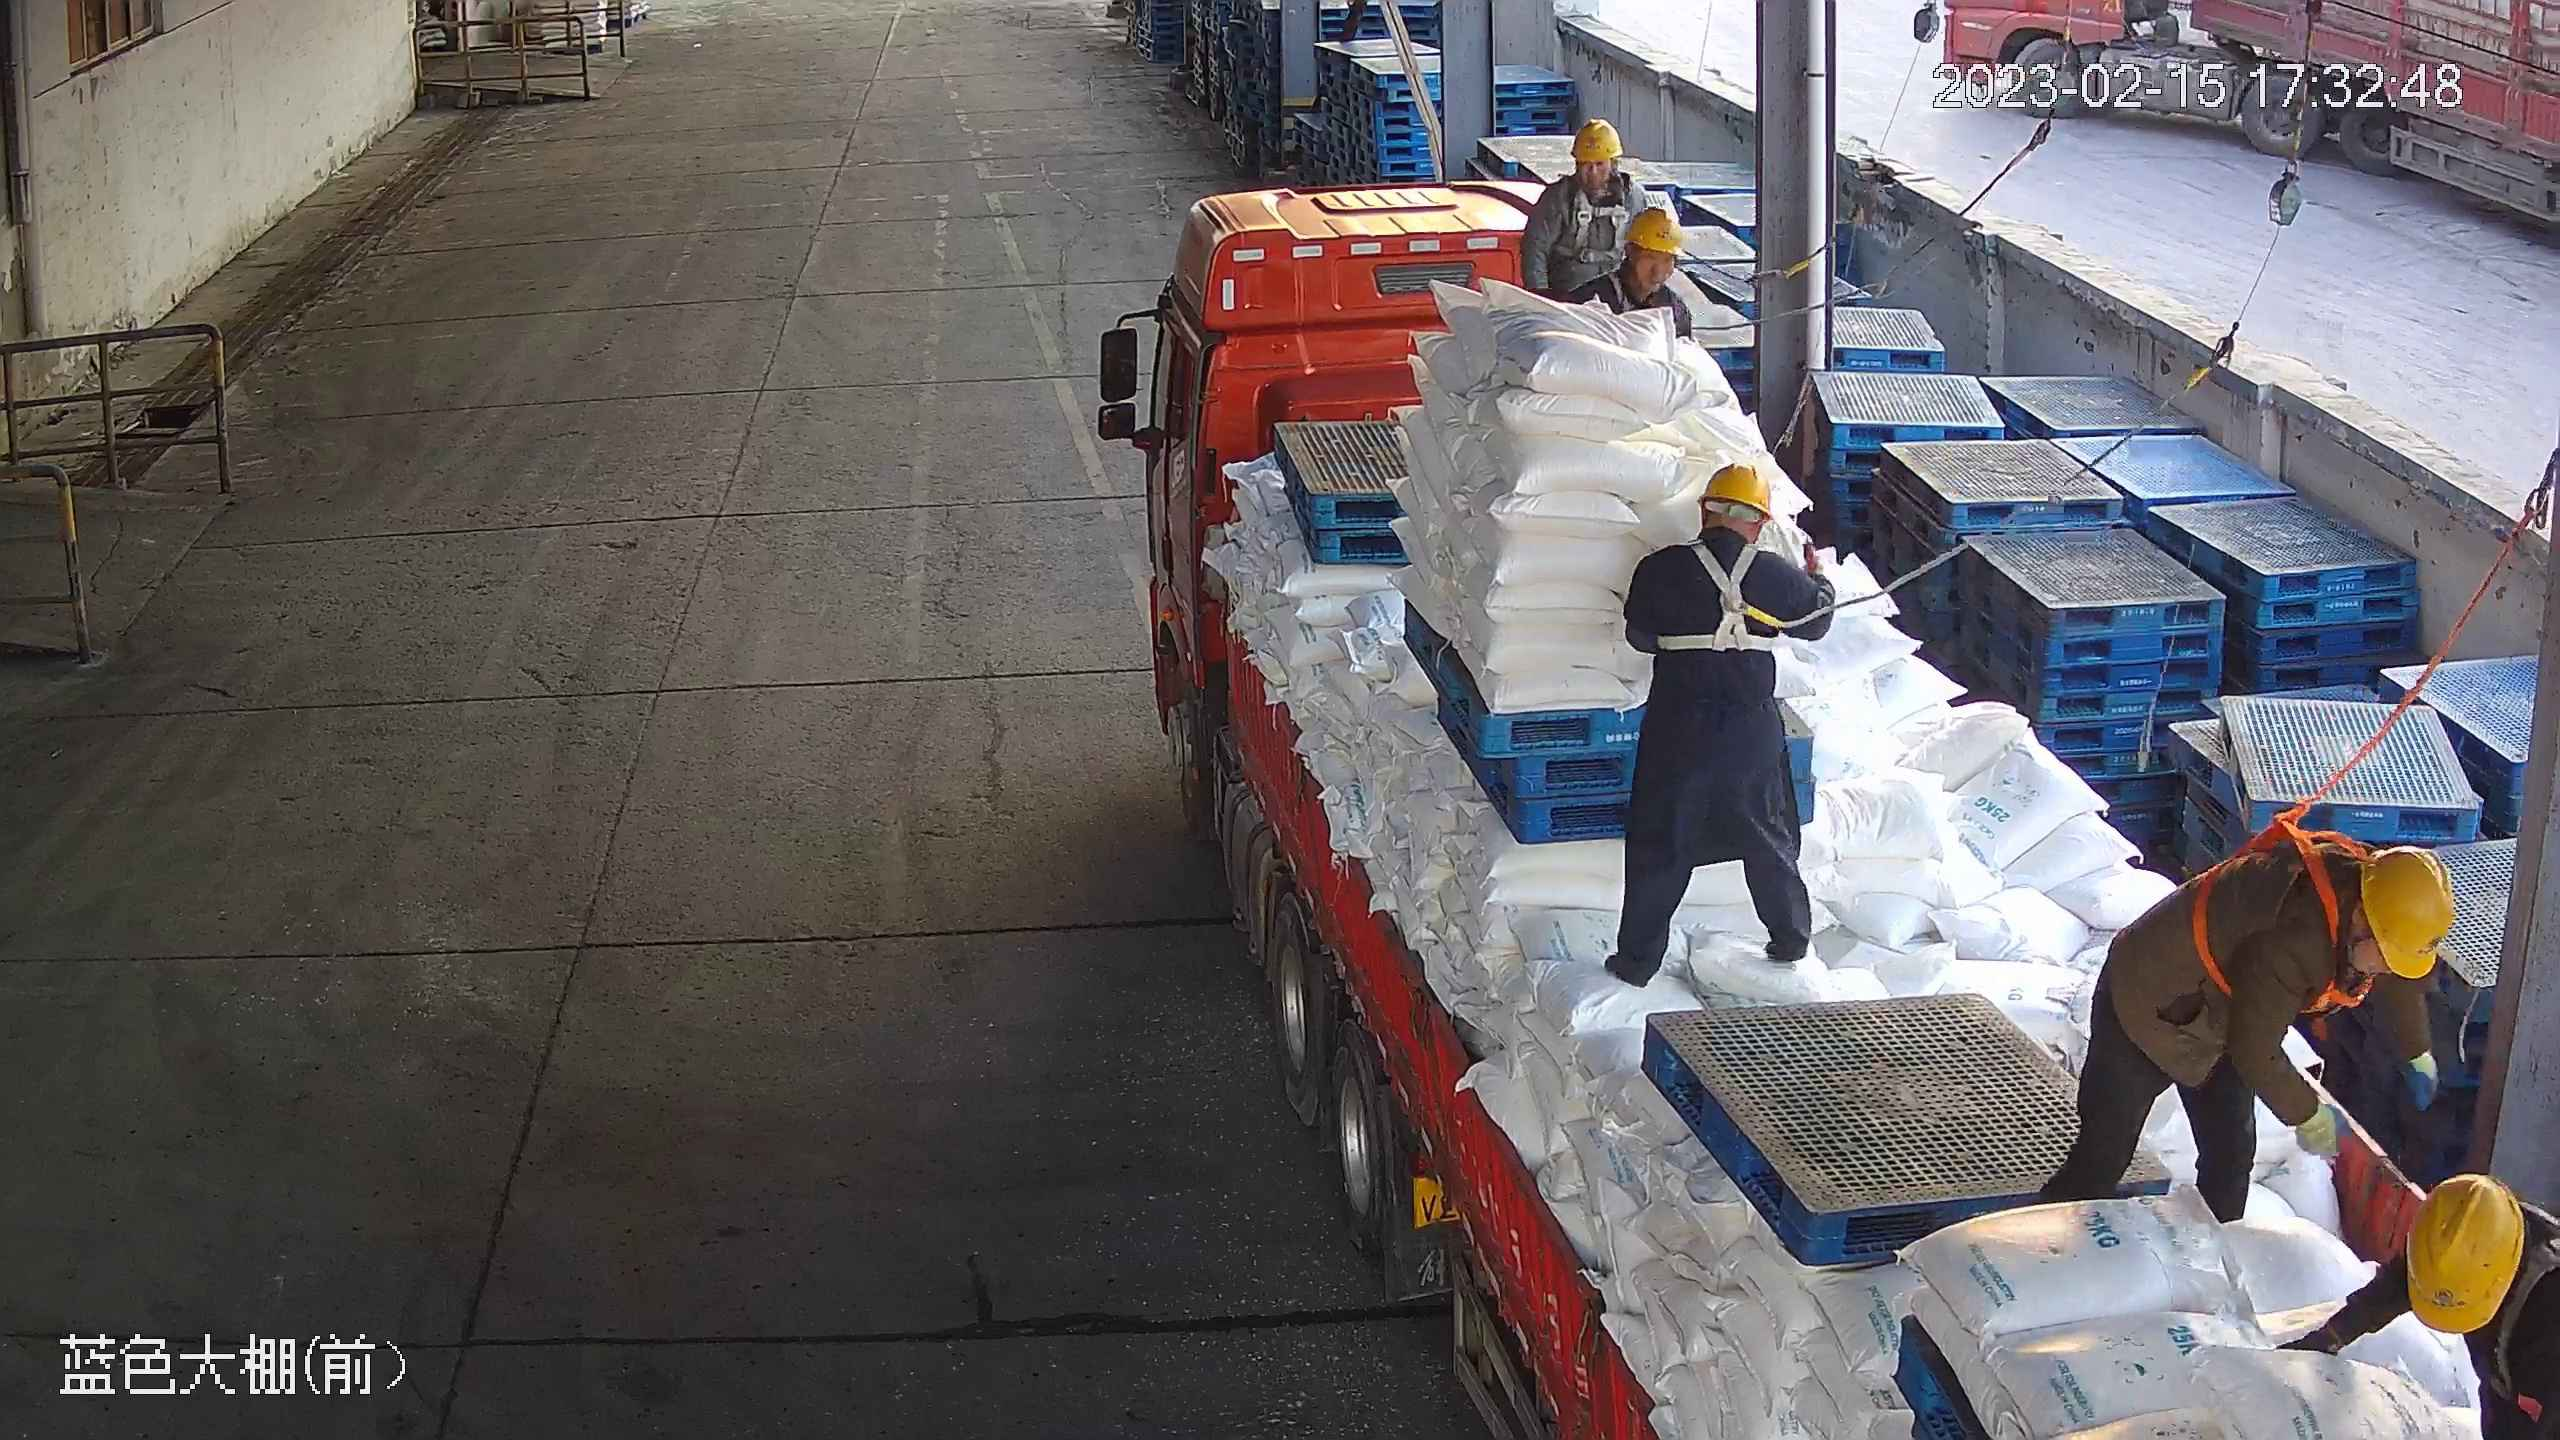belt: (2189, 822, 2372, 1016), (1648, 538, 1837, 656), (1551, 169, 1641, 263)
head: (2247, 834, 2459, 996), (1629, 464, 1798, 589), (1535, 117, 1645, 219)
helmet: (2404, 1172, 2523, 1336), (2360, 845, 2454, 982), (1695, 464, 1773, 524), (1626, 209, 1684, 259), (1568, 117, 1625, 164)
people: (2040, 843, 2454, 1225), (1601, 463, 1834, 991)
truck: (1143, 171, 2560, 1433)
